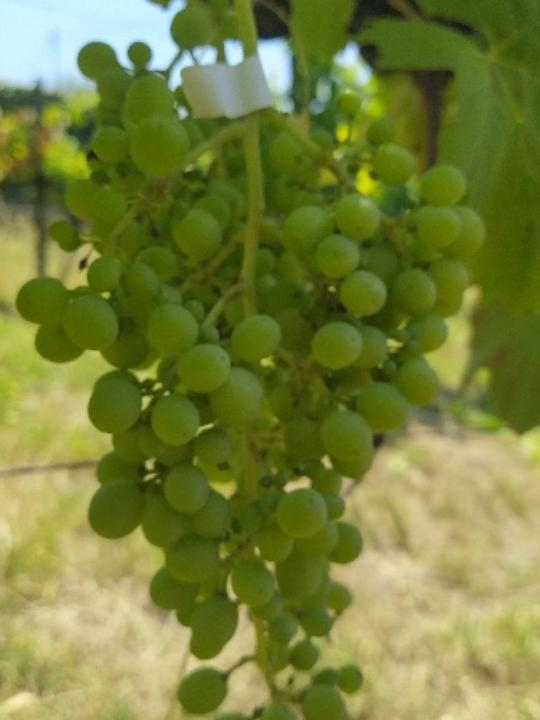grape: (14, 41, 490, 720)
